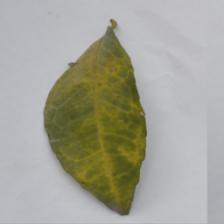greening: (37, 71, 156, 176)
